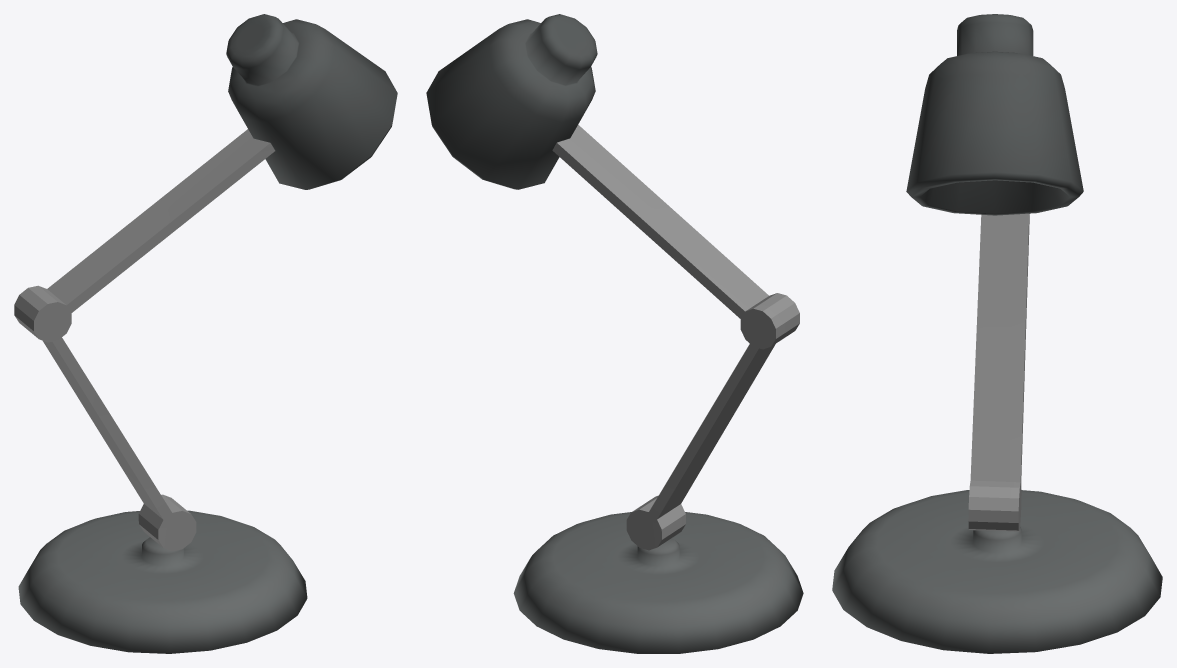
Rendered from desktop_lamp.fbx.
The picture shows the model from 3 angles, left to right: view 1: azimuth 30°, elevation 25°; view 2: azimuth 150°, elevation 25°; view 3: azimuth 270°, elevation 25°; orthographic projection. The views are drawn at different scales.
Parts seen in each view (by area): view 1: Cylinder.002; view 2: Cylinder.002; view 3: Cylinder.002.
Part boxes in pixels (x1=…): Cylinder.002: x1=14, y1=14, x2=397, y2=653; Cylinder.002: x1=426, y1=14, x2=803, y2=653; Cylinder.002: x1=832, y1=14, x2=1162, y2=653.
Size of the model in its own units: 22.42 by 33.04 by 15.73.
